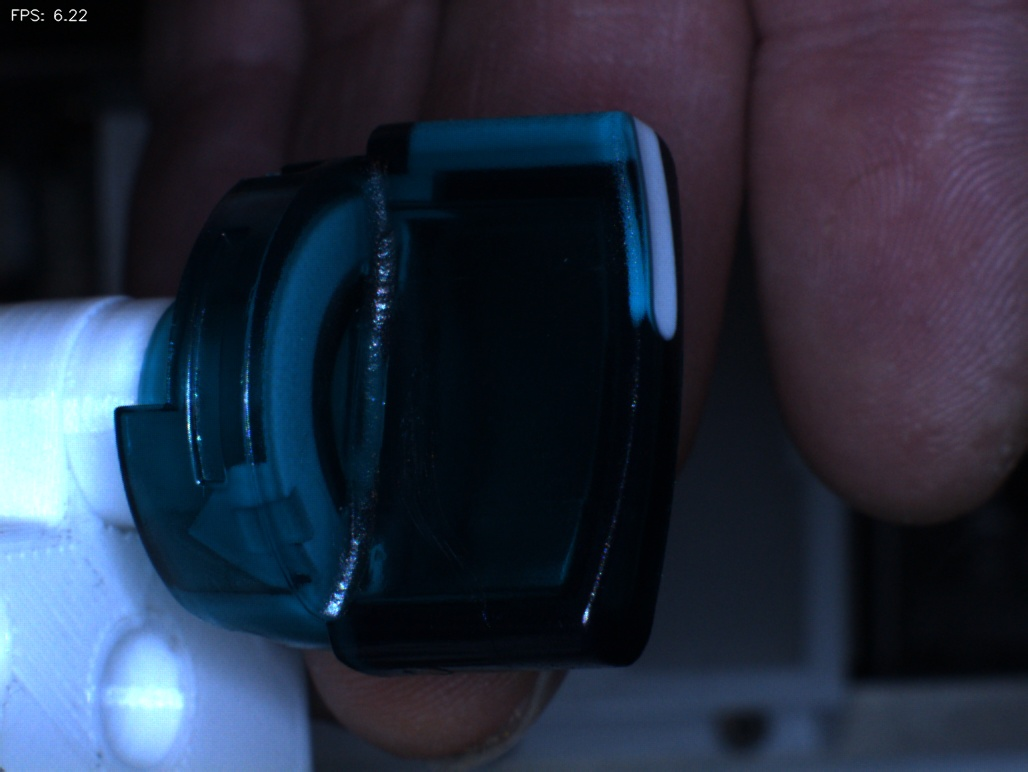Givrage: (391, 362, 504, 637)
